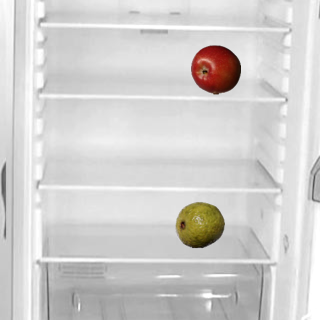Apple Braeburn: (190, 44, 240, 94)
Guava: (174, 199, 224, 249)
